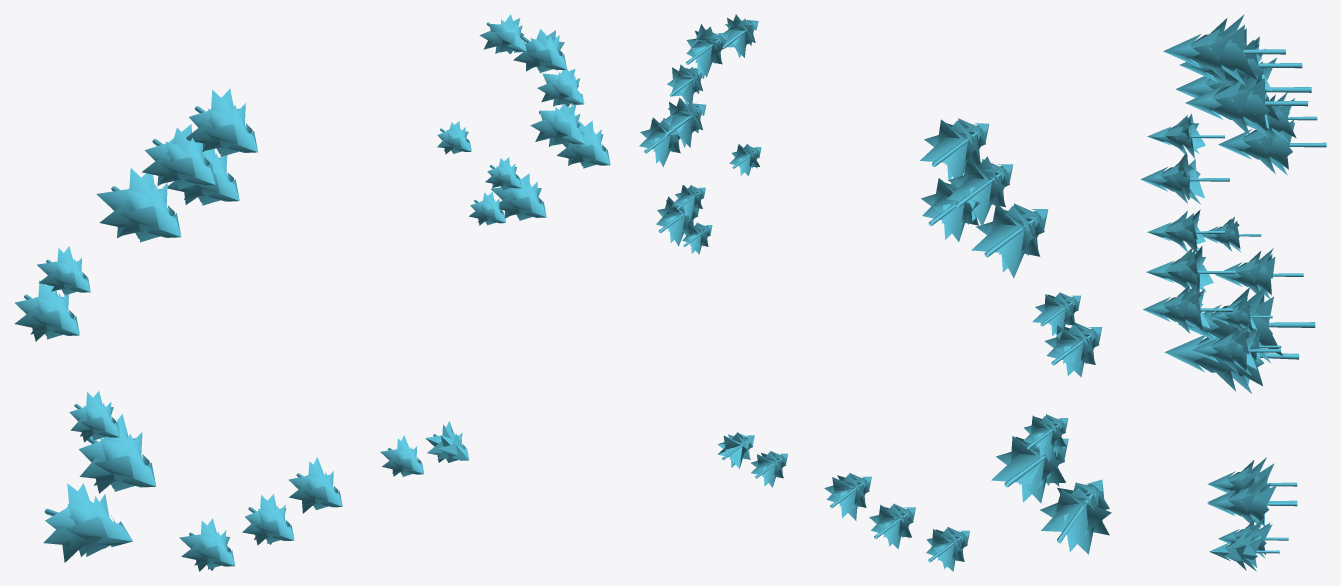
File: J251_WF_trees.obj
3 views of the same model, side by side, from view 1: azimuth 30°, elevation 25°; view 2: azimuth 150°, elevation 25°; view 3: azimuth 270°, elevation 25° (orthographic). The views are drawn at different scales.
Parts seen in each view (by area): view 1: J251_WF_trees; view 2: J251_WF_trees; view 3: J251_WF_trees.
Boxes of the visible parts, x1,y1,x2,y2 form: J251_WF_trees: [14, 14, 610, 571]; J251_WF_trees: [639, 14, 1111, 571]; J251_WF_trees: [1140, 14, 1326, 571].
Bounding box in the file's own units: 116 × 106 × 34.21.
